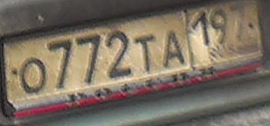character: (102, 26, 135, 82), (75, 30, 103, 91), (44, 36, 75, 91), (16, 54, 48, 95), (158, 28, 188, 71), (130, 30, 159, 74), (228, 1, 251, 44), (208, 5, 232, 45), (190, 8, 212, 51)
